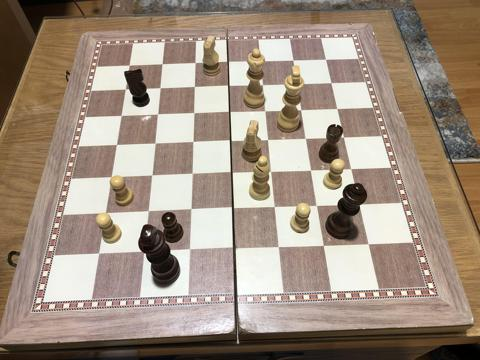xcorner: (321, 54, 333, 66), (289, 55, 301, 67), (256, 56, 268, 68), (224, 57, 236, 69), (191, 58, 203, 70), (158, 59, 170, 71), (125, 60, 137, 72), (327, 78, 339, 90), (293, 79, 305, 91), (259, 80, 271, 92), (224, 81, 236, 93), (190, 82, 202, 94), (155, 83, 167, 95), (121, 84, 133, 96), (332, 104, 344, 116), (297, 105, 309, 117), (261, 106, 273, 118), (225, 107, 237, 119), (189, 108, 201, 120), (153, 109, 165, 121), (116, 110, 128, 122), (339, 132, 351, 144), (301, 133, 313, 145), (264, 134, 276, 146), (226, 136, 238, 148), (188, 137, 200, 149), (150, 138, 162, 150), (111, 139, 123, 151), (346, 164, 358, 176), (306, 165, 318, 177), (267, 166, 279, 178), (227, 167, 239, 179), (187, 169, 199, 181), (146, 170, 158, 182), (106, 171, 118, 183), (354, 199, 366, 211), (312, 200, 324, 212), (270, 202, 282, 214), (228, 203, 240, 215), (185, 205, 197, 217), (143, 206, 155, 218), (100, 208, 112, 220), (363, 238, 375, 250), (318, 240, 330, 252), (274, 242, 286, 254), (229, 243, 241, 255), (184, 245, 196, 257), (139, 247, 151, 259), (93, 248, 105, 260)
